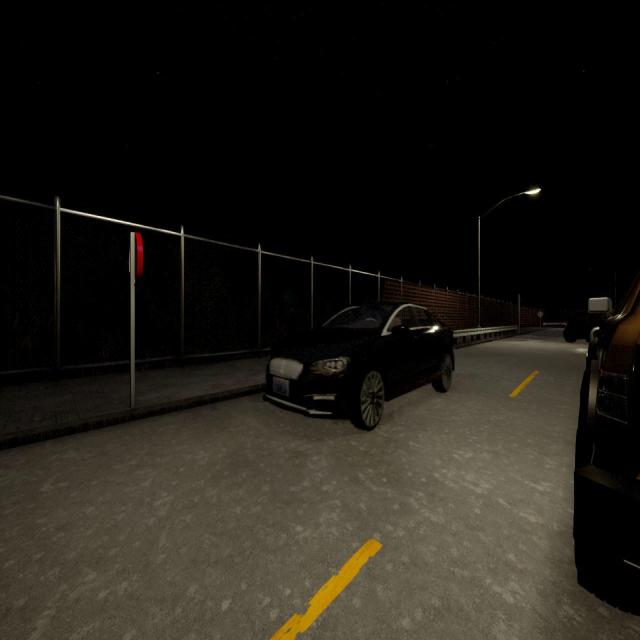Traffic_Signs: (129, 232, 143, 277), (538, 311, 544, 317)
Vehicle: (265, 302, 454, 429), (573, 270, 640, 615), (563, 297, 614, 343)
